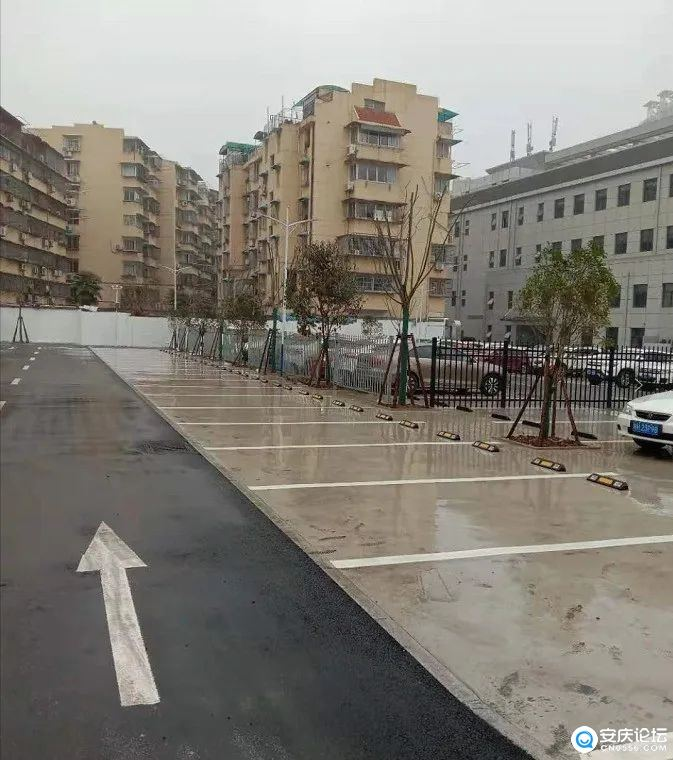slot_nocar: (235, 461, 673, 574), (190, 435, 605, 495), (169, 412, 483, 457), (154, 398, 412, 433), (137, 385, 356, 414), (86, 334, 204, 369), (118, 366, 268, 385)
